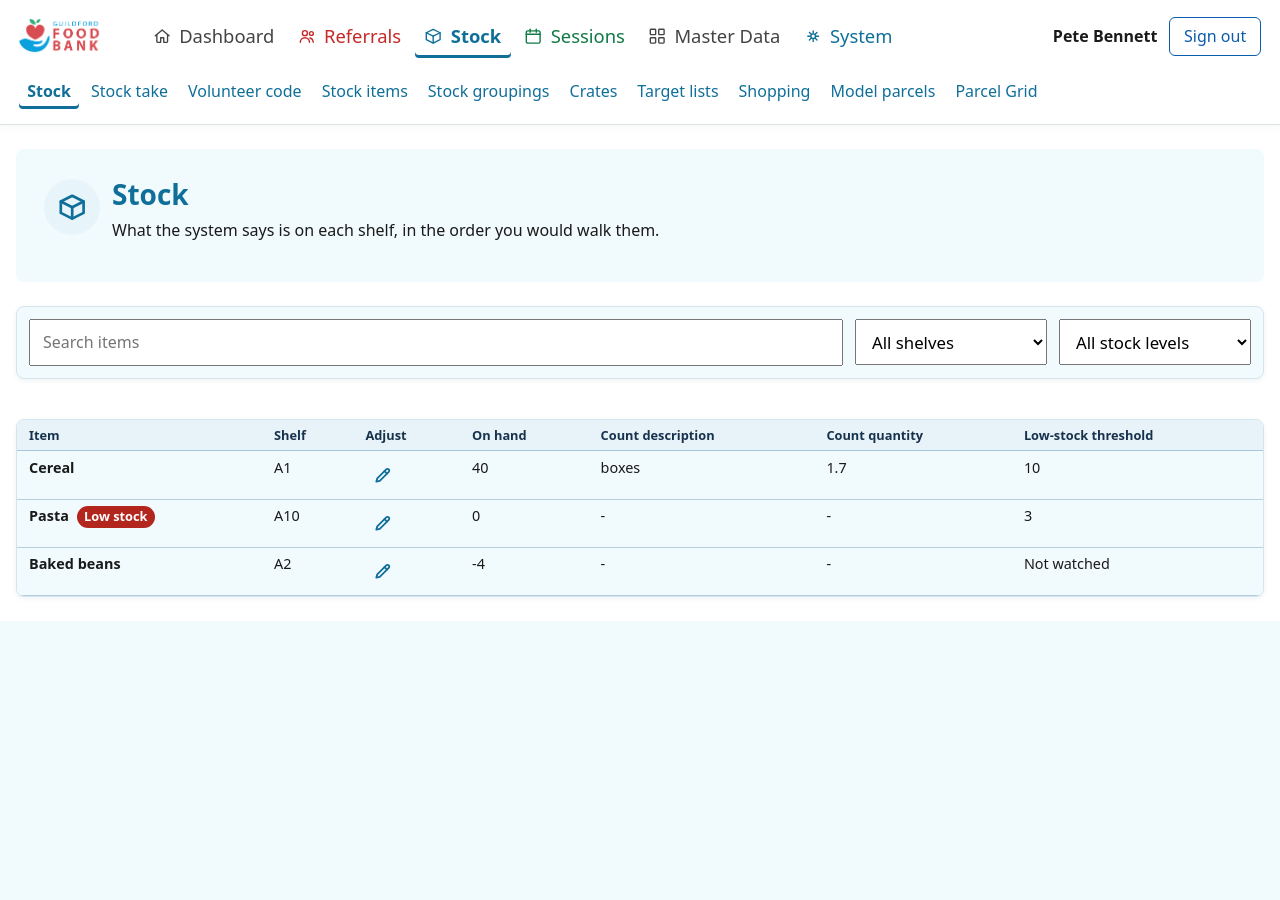
Test case: stock levels › filters to low stock, including a negative level without a watched threshold
Step 1. Select "Low stock" in the dropdown named "Stock-level filter" → (1155, 342), box [1059,319,1251,366]
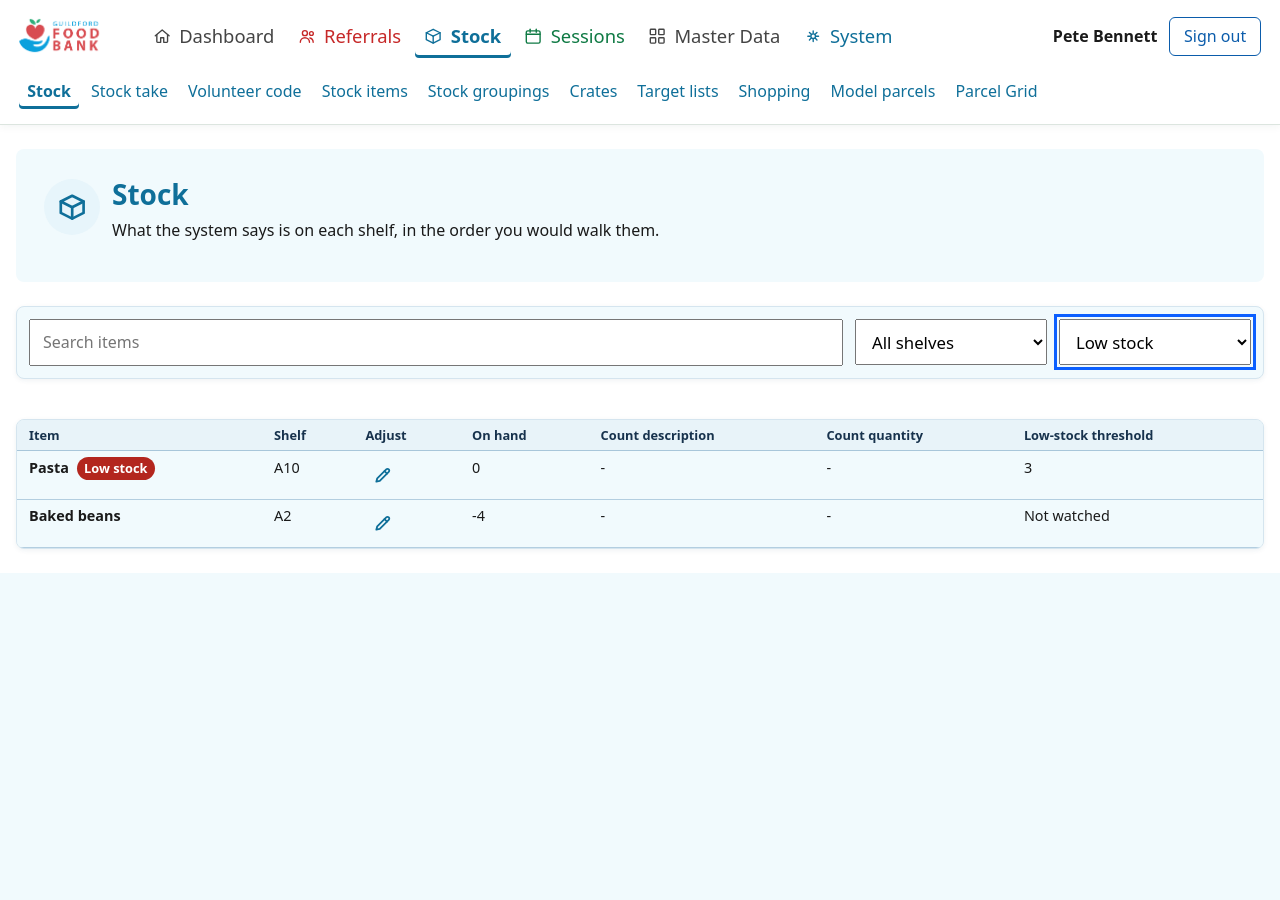
Expected: the row "Pasta Low stock A10 0 - - 3" is shown, [17,451,1263,499]
Result: the column heading "Cereal" is gone
